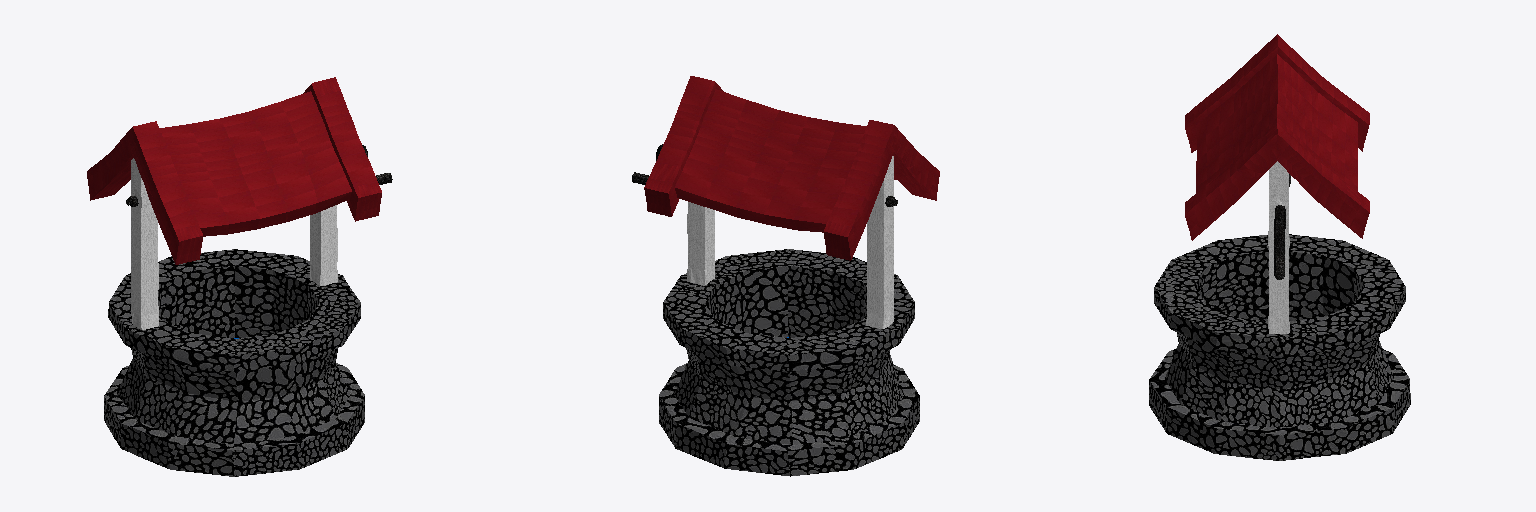
The picture shows the model from 3 angles: view 1: azimuth 30°, elevation 25°; view 2: azimuth 150°, elevation 25°; view 3: azimuth 270°, elevation 25°; orthographic projection.
Parts seen in each view (by area): view 1: polySurface39; view 2: polySurface39; view 3: polySurface39.
Boxes of the visible parts, box(x1,y1,x2,y2) form: polySurface39: box(87, 77, 392, 476); polySurface39: box(632, 76, 939, 476); polySurface39: box(1149, 34, 1410, 460).
Bounding box in the file's own units: 2.77 × 3.16 × 2.33.
5 materials, 5 textured.